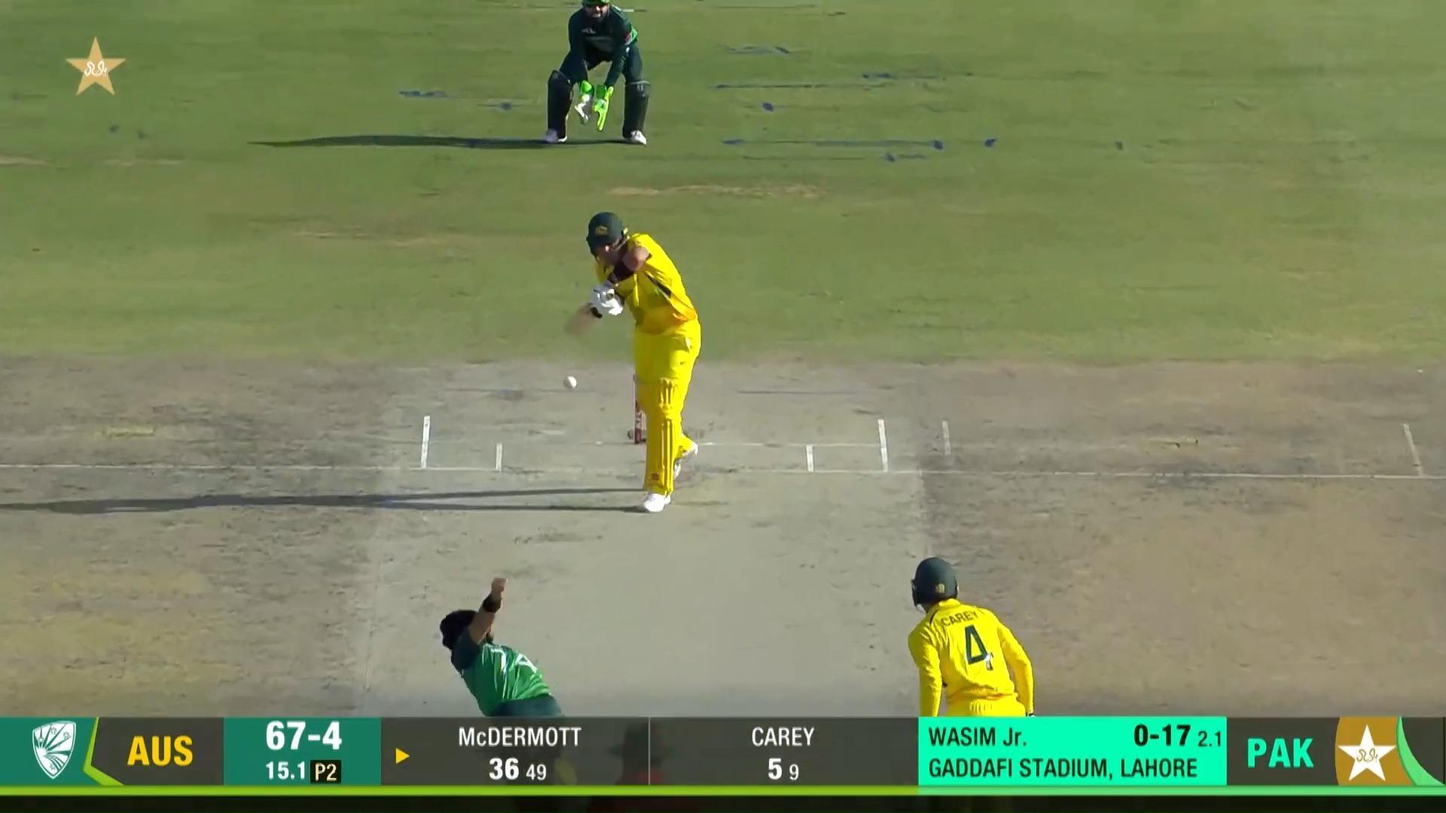BM 1: (564, 212, 701, 513)
BO: (437, 575, 578, 813)
